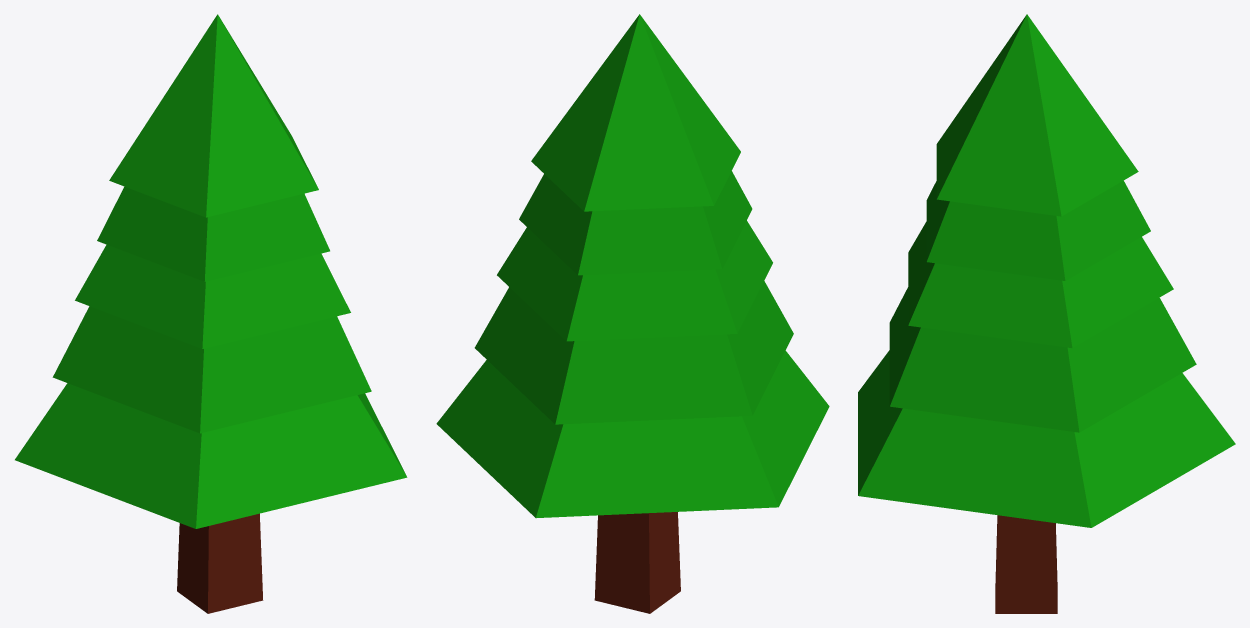
The model's file is tree.obj.
The picture shows the model from 3 angles, left to right: view 1: azimuth 30°, elevation 25°; view 2: azimuth 150°, elevation 25°; view 3: azimuth 270°, elevation 25°; orthographic projection.
Visible parts, largest first — view 1: Cone, Cube; view 2: Cone, Cube; view 3: Cone, Cube.
Boxes of the visible parts, x1,y1,x2,y2 form: Cone: (15, 14, 407, 528); Cube: (177, 513, 263, 613); Cone: (436, 14, 829, 518); Cube: (594, 512, 680, 613); Cone: (858, 14, 1235, 527); Cube: (995, 515, 1057, 613).
Bounding box in the file's own units: 1.67 × 2.72 × 1.59.
